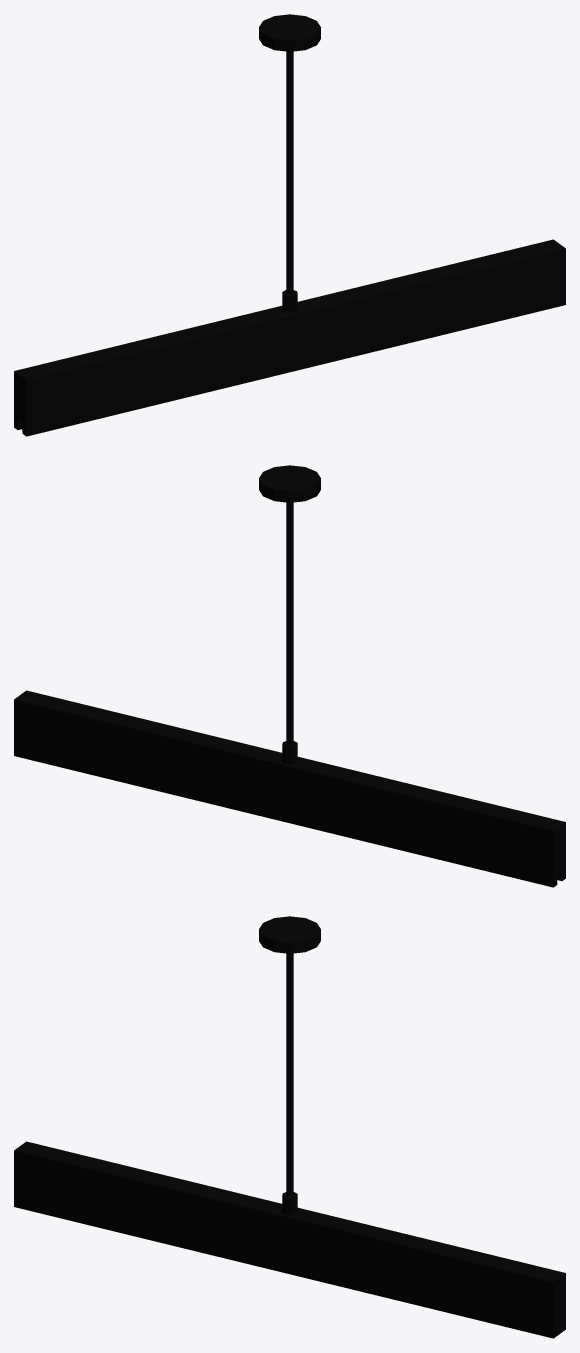
The model's file is SM_Build_Lichtschiene_Gerade_100.fbx.
The picture shows the model from 3 angles, top to bottom: view 1: azimuth 30°, elevation 25°; view 2: azimuth 150°, elevation 25°; view 3: azimuth 330°, elevation 25°; orthographic projection.
Visible parts, largest first — view 1: Lichtschiene_Gerade_100; view 2: Lichtschiene_Gerade_100; view 3: Lichtschiene_Gerade_100.
Boxes of the visible parts, x1,y1,x2,y2 form: Lichtschiene_Gerade_100: (14,14,565,436); Lichtschiene_Gerade_100: (14,465,565,887); Lichtschiene_Gerade_100: (14,916,565,1338).
Bounding box in the file's own units: 1 × 0.6 × 0.1.
